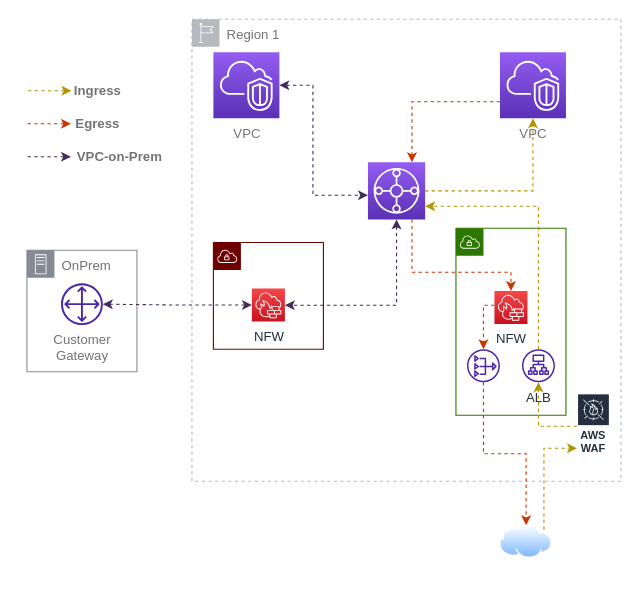
Some shapes in this 640 by 604 pixel diagram are drawn without their labels. The shapes that lost their labels are listed below. From the top down, each one's box as (x1, y1, x2, y2) in pixels, then its label:
(367, 161, 425, 219): Transit Gateway
(212, 241, 323, 349): VPC Inspection
(455, 227, 566, 415): Perimeter VPC
(466, 349, 499, 382): NAT
(499, 525, 552, 558): Internet
